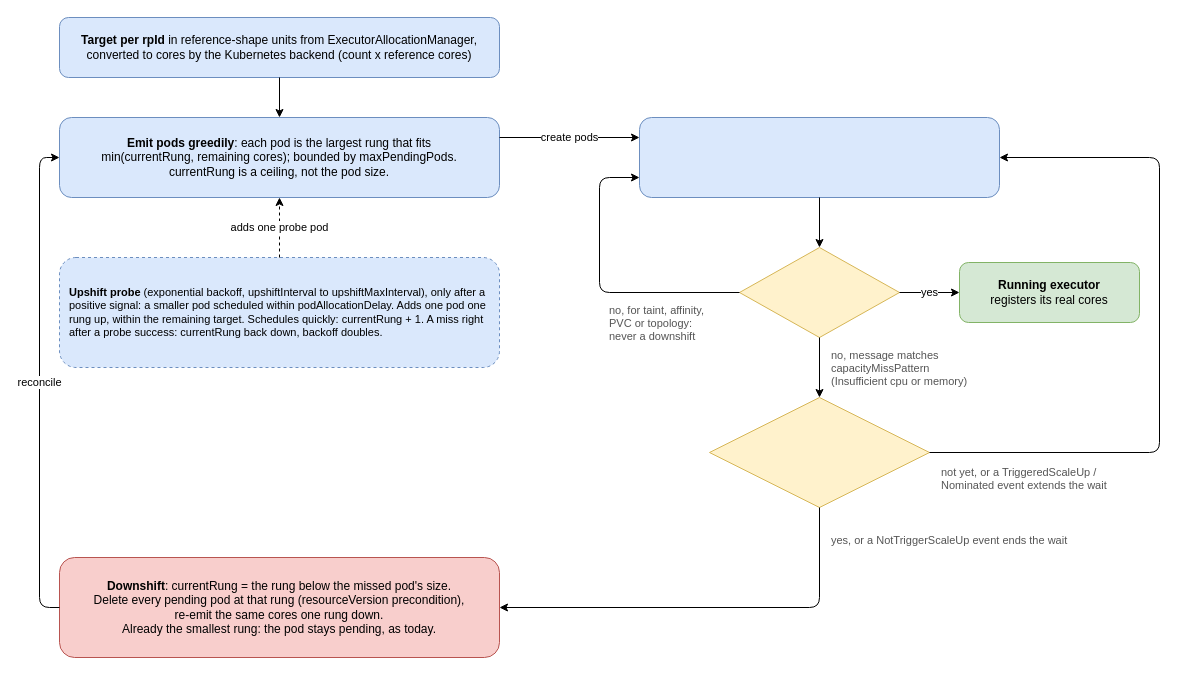
The diagram is 1185 pixels wide and 675 high, and some of its shapes have lost their labels. Here are the shapes that lost their labels. From the top down, the centre of each, then its label:
At (819,157): "Pod watch PodScheduled condition and FailedScheduling events".
At (819,292): "Scheduled?".
At (819,452): "Capacity miss older than downshiftTimeout?".
